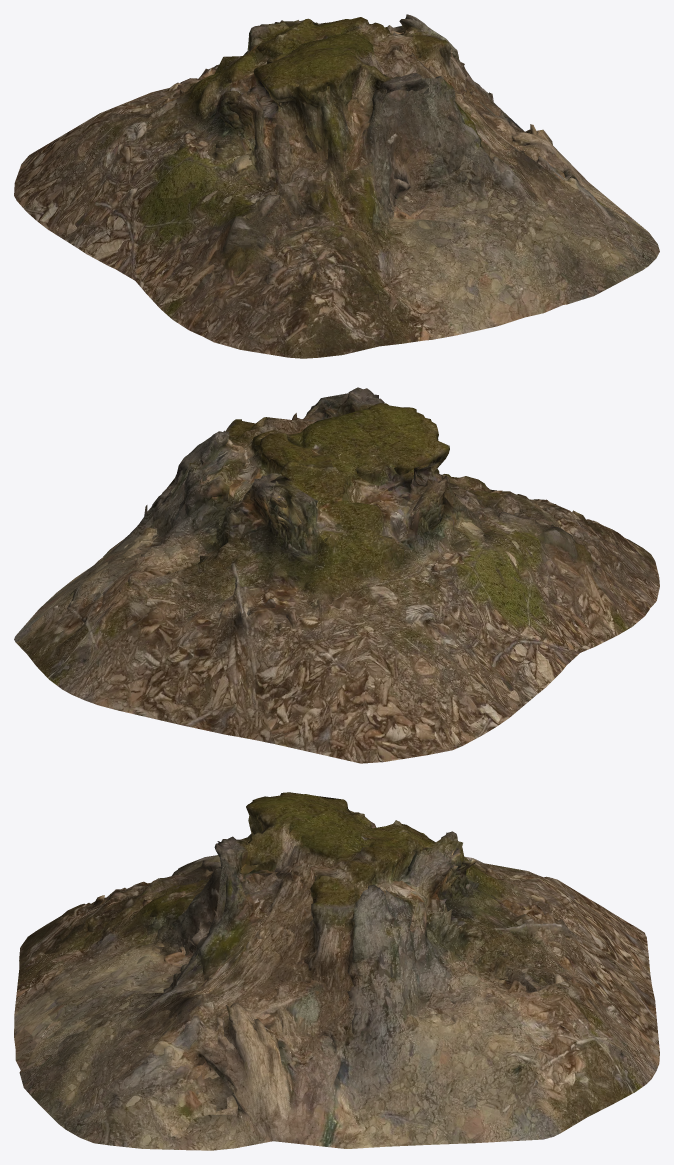
Rendered from tree_stump_01.glb.
3 renders of one model, top to bottom at view 1: azimuth 30°, elevation 25°; view 2: azimuth 150°, elevation 25°; view 3: azimuth 270°, elevation 25°, orthographic. The views are drawn at different scales.
Visible parts, largest first — view 1: tree_stump_01, tree_stump_01_lo; view 2: tree_stump_01, tree_stump_01_lo; view 3: tree_stump_01, tree_stump_01_lo.
Boxes of the visible parts, box(x1,y1,x2,y2) form: tree_stump_01: box(14, 14, 659, 358); tree_stump_01_lo: box(16, 21, 647, 346); tree_stump_01: box(14, 387, 659, 763); tree_stump_01_lo: box(14, 393, 653, 763); tree_stump_01: box(14, 792, 659, 1150); tree_stump_01_lo: box(14, 792, 659, 1148).
Bounding box in the file's own units: 1.43 × 0.5725 × 1.59.
1 material, 1 textured.
